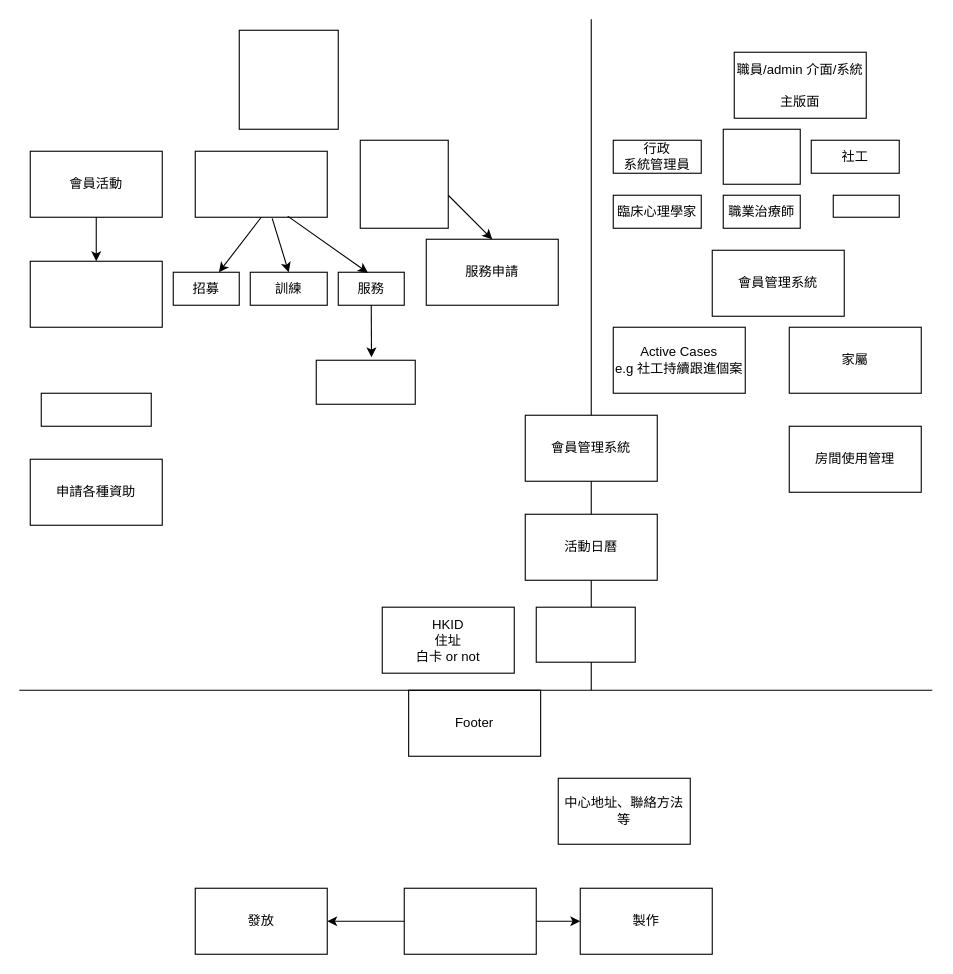
This 953x974 diagram has some shape labels left out. Here are the shapes that lost their labels. From the top down, the box of each, then its label:
(238, 29, 338, 129): 使用者介面/系統 主版面
(722, 128, 800, 184): 活動工作員 朋輩輔導員
(194, 150, 327, 217): 義工
(359, 139, 448, 228): 日間暫托 / 職業活療
(832, 194, 899, 217): 護士
(29, 260, 162, 327): 報名/ CURD
(315, 359, 415, 404): 陪診配對 mainly 精神科
(40, 392, 151, 426): 臨床心理治療
(535, 606, 635, 662): 有關會員之私隱 restricted address
(403, 887, 536, 954): 季刊
